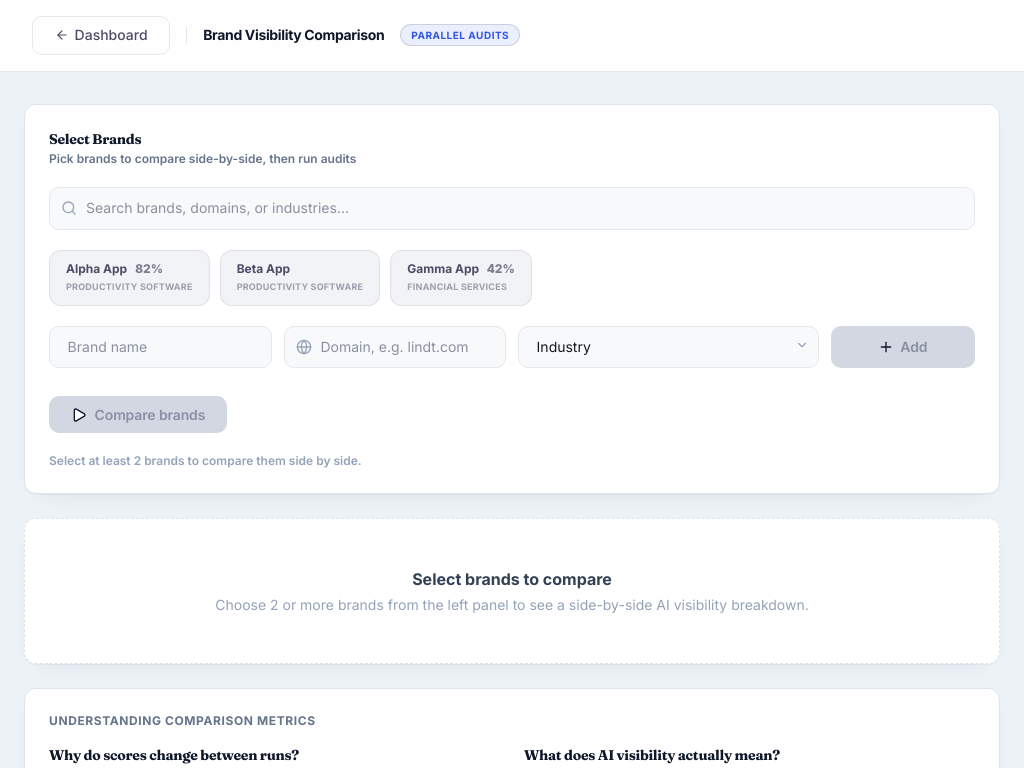
Test: Multi-Brand Comparison Page Component › enables the compare button only after the user picks two brands
The image size is (1024, 768).
Expected: the text "Alpha App" is shown, top-left (66, 261), bottom-right (127, 276)
Expected: the button "Compare brands" is disabled, top-left (49, 396), bottom-right (227, 433)
// Pick two brands, then the button enables and reflects the count.
Click the button "Alpha App 82% Productivity software": {"x": 129, "y": 278} top-left (49, 250), bottom-right (210, 306)
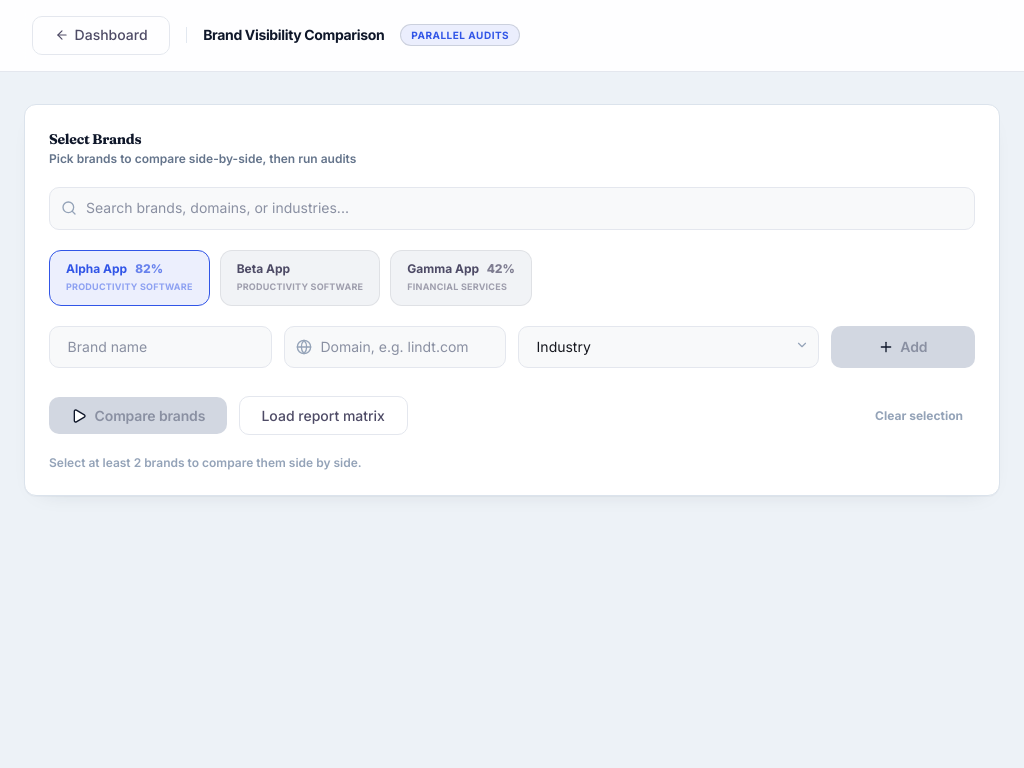
Click the button "Beta App Productivity software": {"x": 300, "y": 278} top-left (220, 250), bottom-right (380, 306)
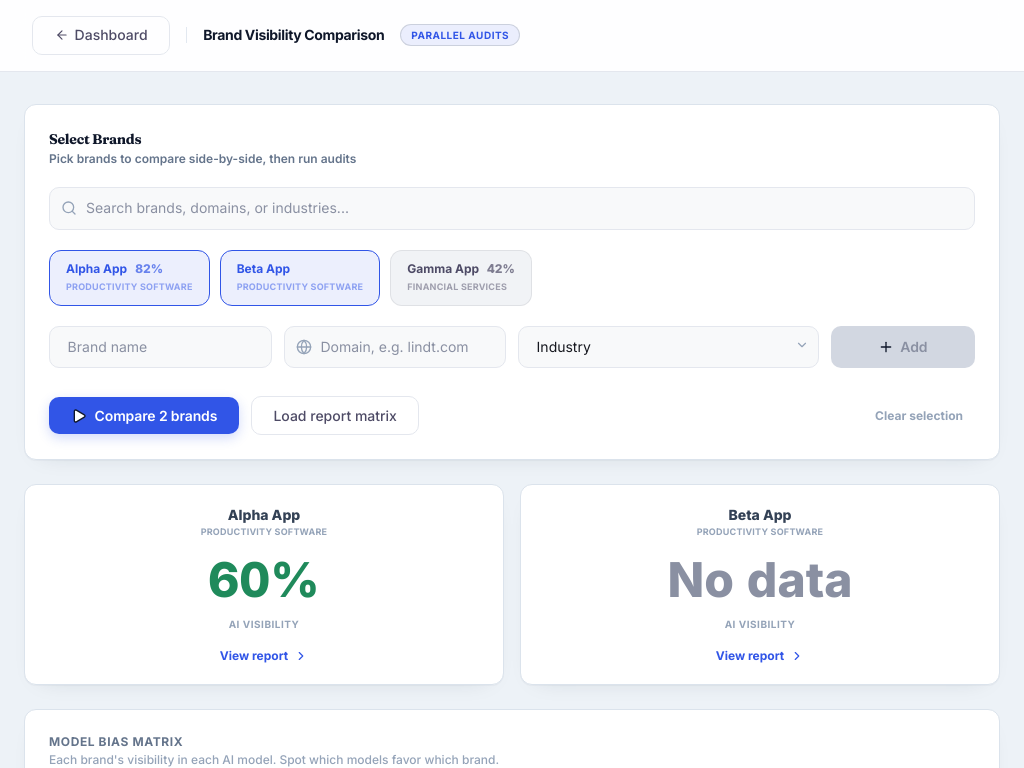
Now the button "Compare 2 brands" is enabled, box top-left (49, 397), bottom-right (239, 434)
